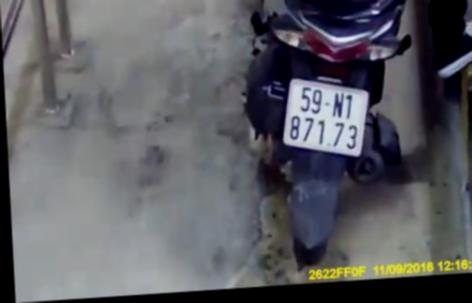License_Plate: (271, 67, 381, 167)
